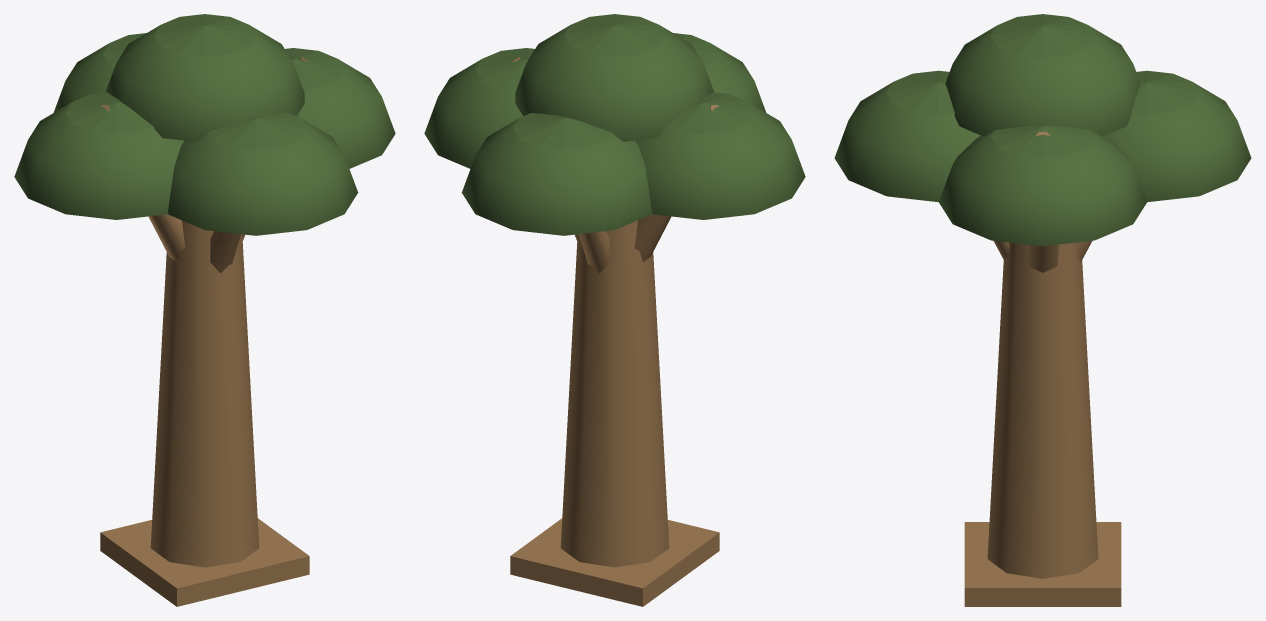
3 views of the same model, side by side, from view 1: azimuth 30°, elevation 25°; view 2: azimuth 150°, elevation 25°; view 3: azimuth 270°, elevation 25° (orthographic). The views are drawn at different scales.
Visible parts, largest first — view 1: old-locust-a@1.0.0; view 2: old-locust-a@1.0.0; view 3: old-locust-a@1.0.0.
Part boxes in pixels (bbox=[...]): old-locust-a@1.0.0: bbox=[14, 14, 395, 606]; old-locust-a@1.0.0: bbox=[424, 14, 805, 606]; old-locust-a@1.0.0: bbox=[834, 14, 1251, 606].
Size of the model in its own units: 4 by 5.8 by 4.
